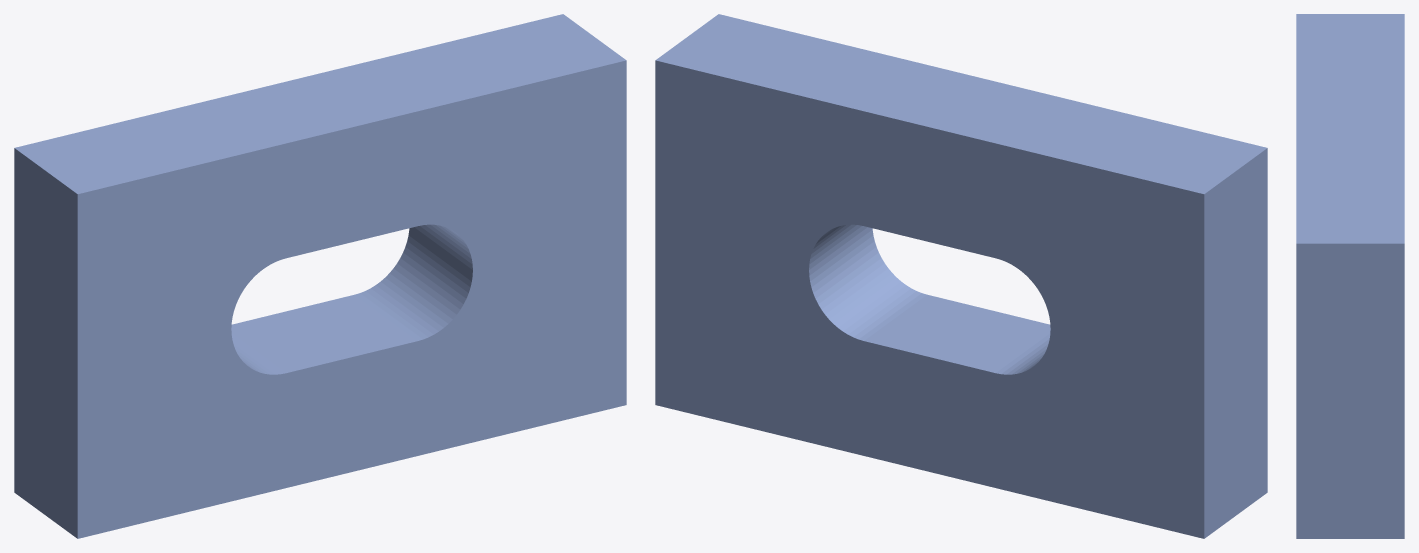
File: slot_neg_demo.glb
3 views of the same model, side by side, from view 1: azimuth 30°, elevation 25°; view 2: azimuth 150°, elevation 25°; view 3: azimuth 270°, elevation 25° (orthographic). The views are drawn at different scales.
Visible parts, largest first — view 1: slotted_plate; view 2: slotted_plate; view 3: slotted_plate.
Boxes of the visible parts, x1,y1,x2,y2 form: slotted_plate: (14,14,626,538); slotted_plate: (655,14,1267,538); slotted_plate: (1296,14,1404,538).
Bounding box in the file's own units: 20 × 12 × 4.
